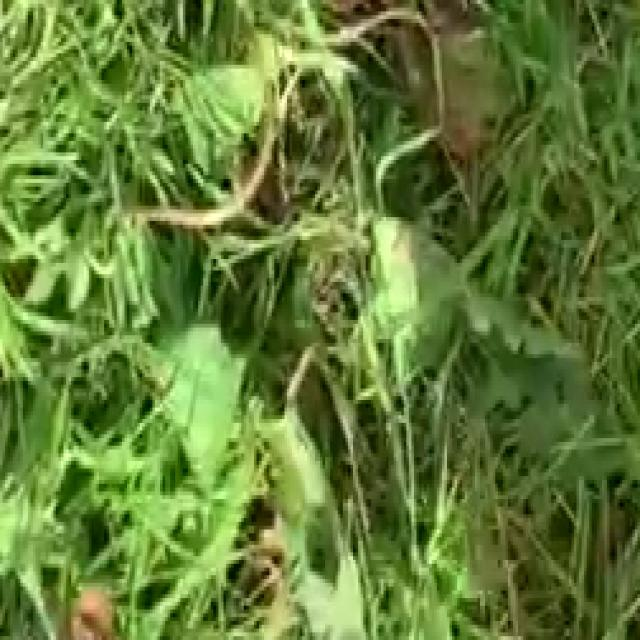organic waste: (71, 0, 564, 636)
